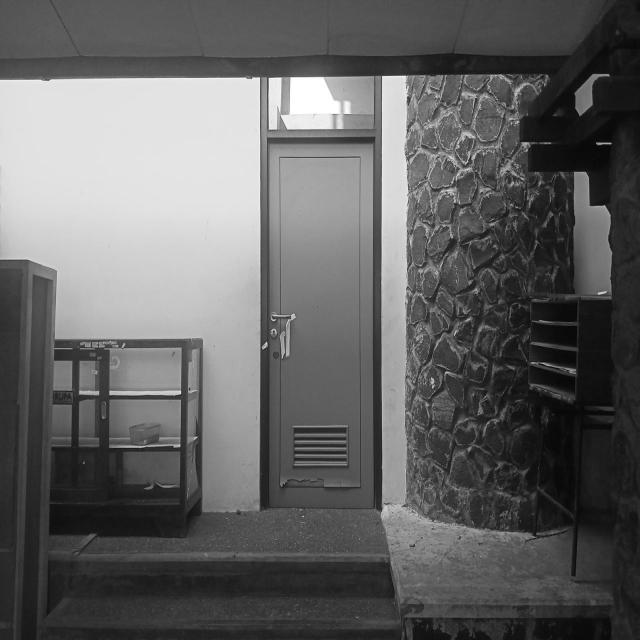door: (267, 138, 375, 510)
